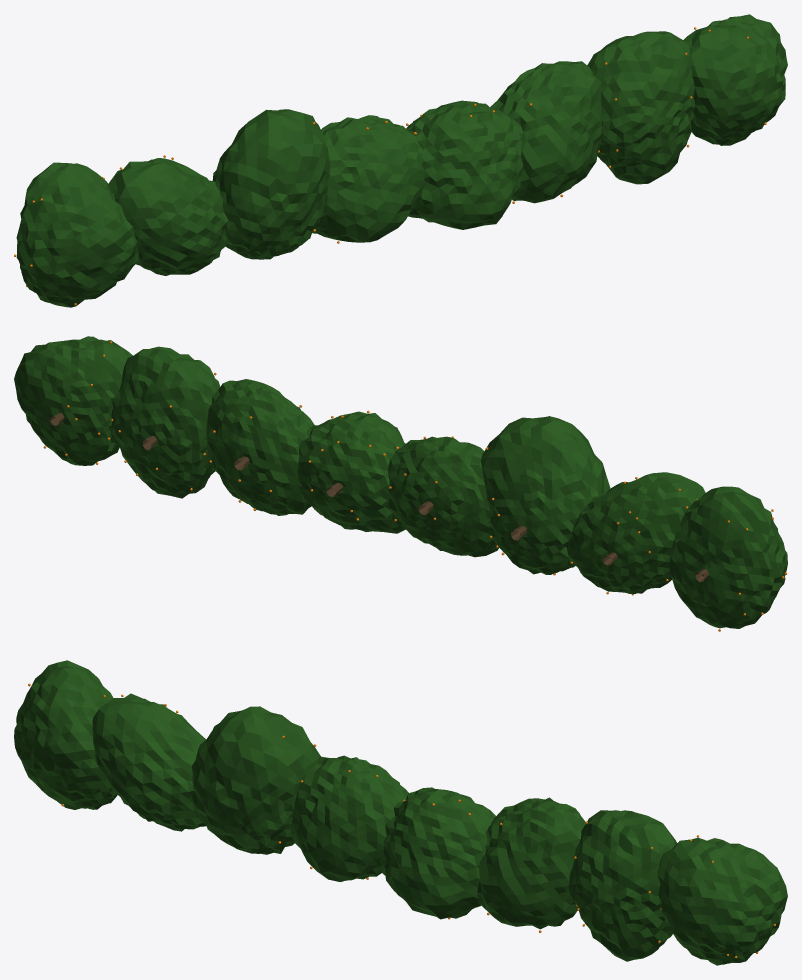
File: citrus_run8_e_fruit.obj
3 views of the same model, one above another, from view 1: azimuth 30°, elevation 25°; view 2: azimuth 150°, elevation 25°; view 3: azimuth 330°, elevation 25° (orthographic).
Parts seen in each view (by area): view 1: canopy; view 2: canopy, trunk, fruit; view 3: canopy.
Boxes of the visible parts, x1,y1,x2,y2 form: canopy: (16,14,787,307); canopy: (14,336,787,628); trunk: (50,412,708,582); fruit: (43,341,787,631); canopy: (14,660,787,965).
Bounding box in the file's own units: 24.89 × 5.07 × 3.16.
